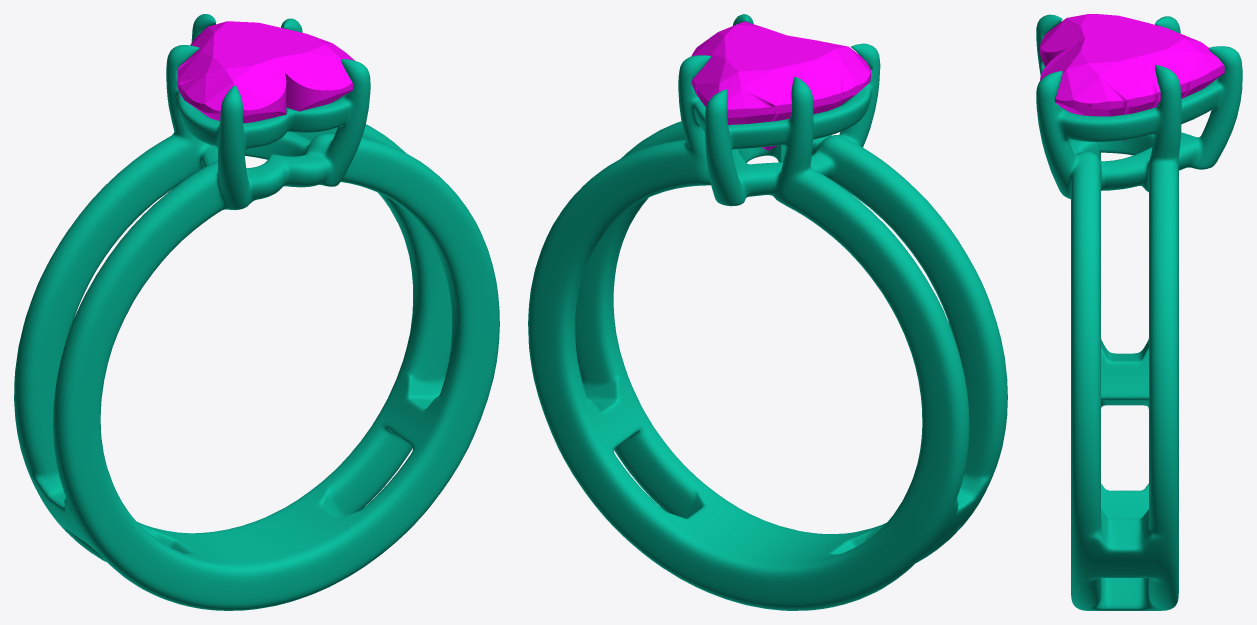
The model's file is BE14122_HT_200ct_RENDER.glb.
The picture shows the model from 3 angles, left to right: view 1: azimuth 30°, elevation 25°; view 2: azimuth 150°, elevation 25°; view 3: azimuth 270°, elevation 25°; orthographic projection.
Visible parts, largest first — view 1: Metal 01, CS_Diamond_Heart; view 2: Metal 01, CS_Diamond_Heart; view 3: Metal 01, CS_Diamond_Heart.
Part boxes in pixels (x1,y1,x2,y2): Metal 01: (14, 14, 499, 610); CS_Diamond_Heart: (177, 21, 354, 123); Metal 01: (528, 14, 1007, 610); CS_Diamond_Heart: (691, 21, 870, 150); Metal 01: (1036, 14, 1242, 610); CS_Diamond_Heart: (1040, 14, 1224, 140).
Bounding box in the file's own units: 20.38 × 24.08 × 8.23.
